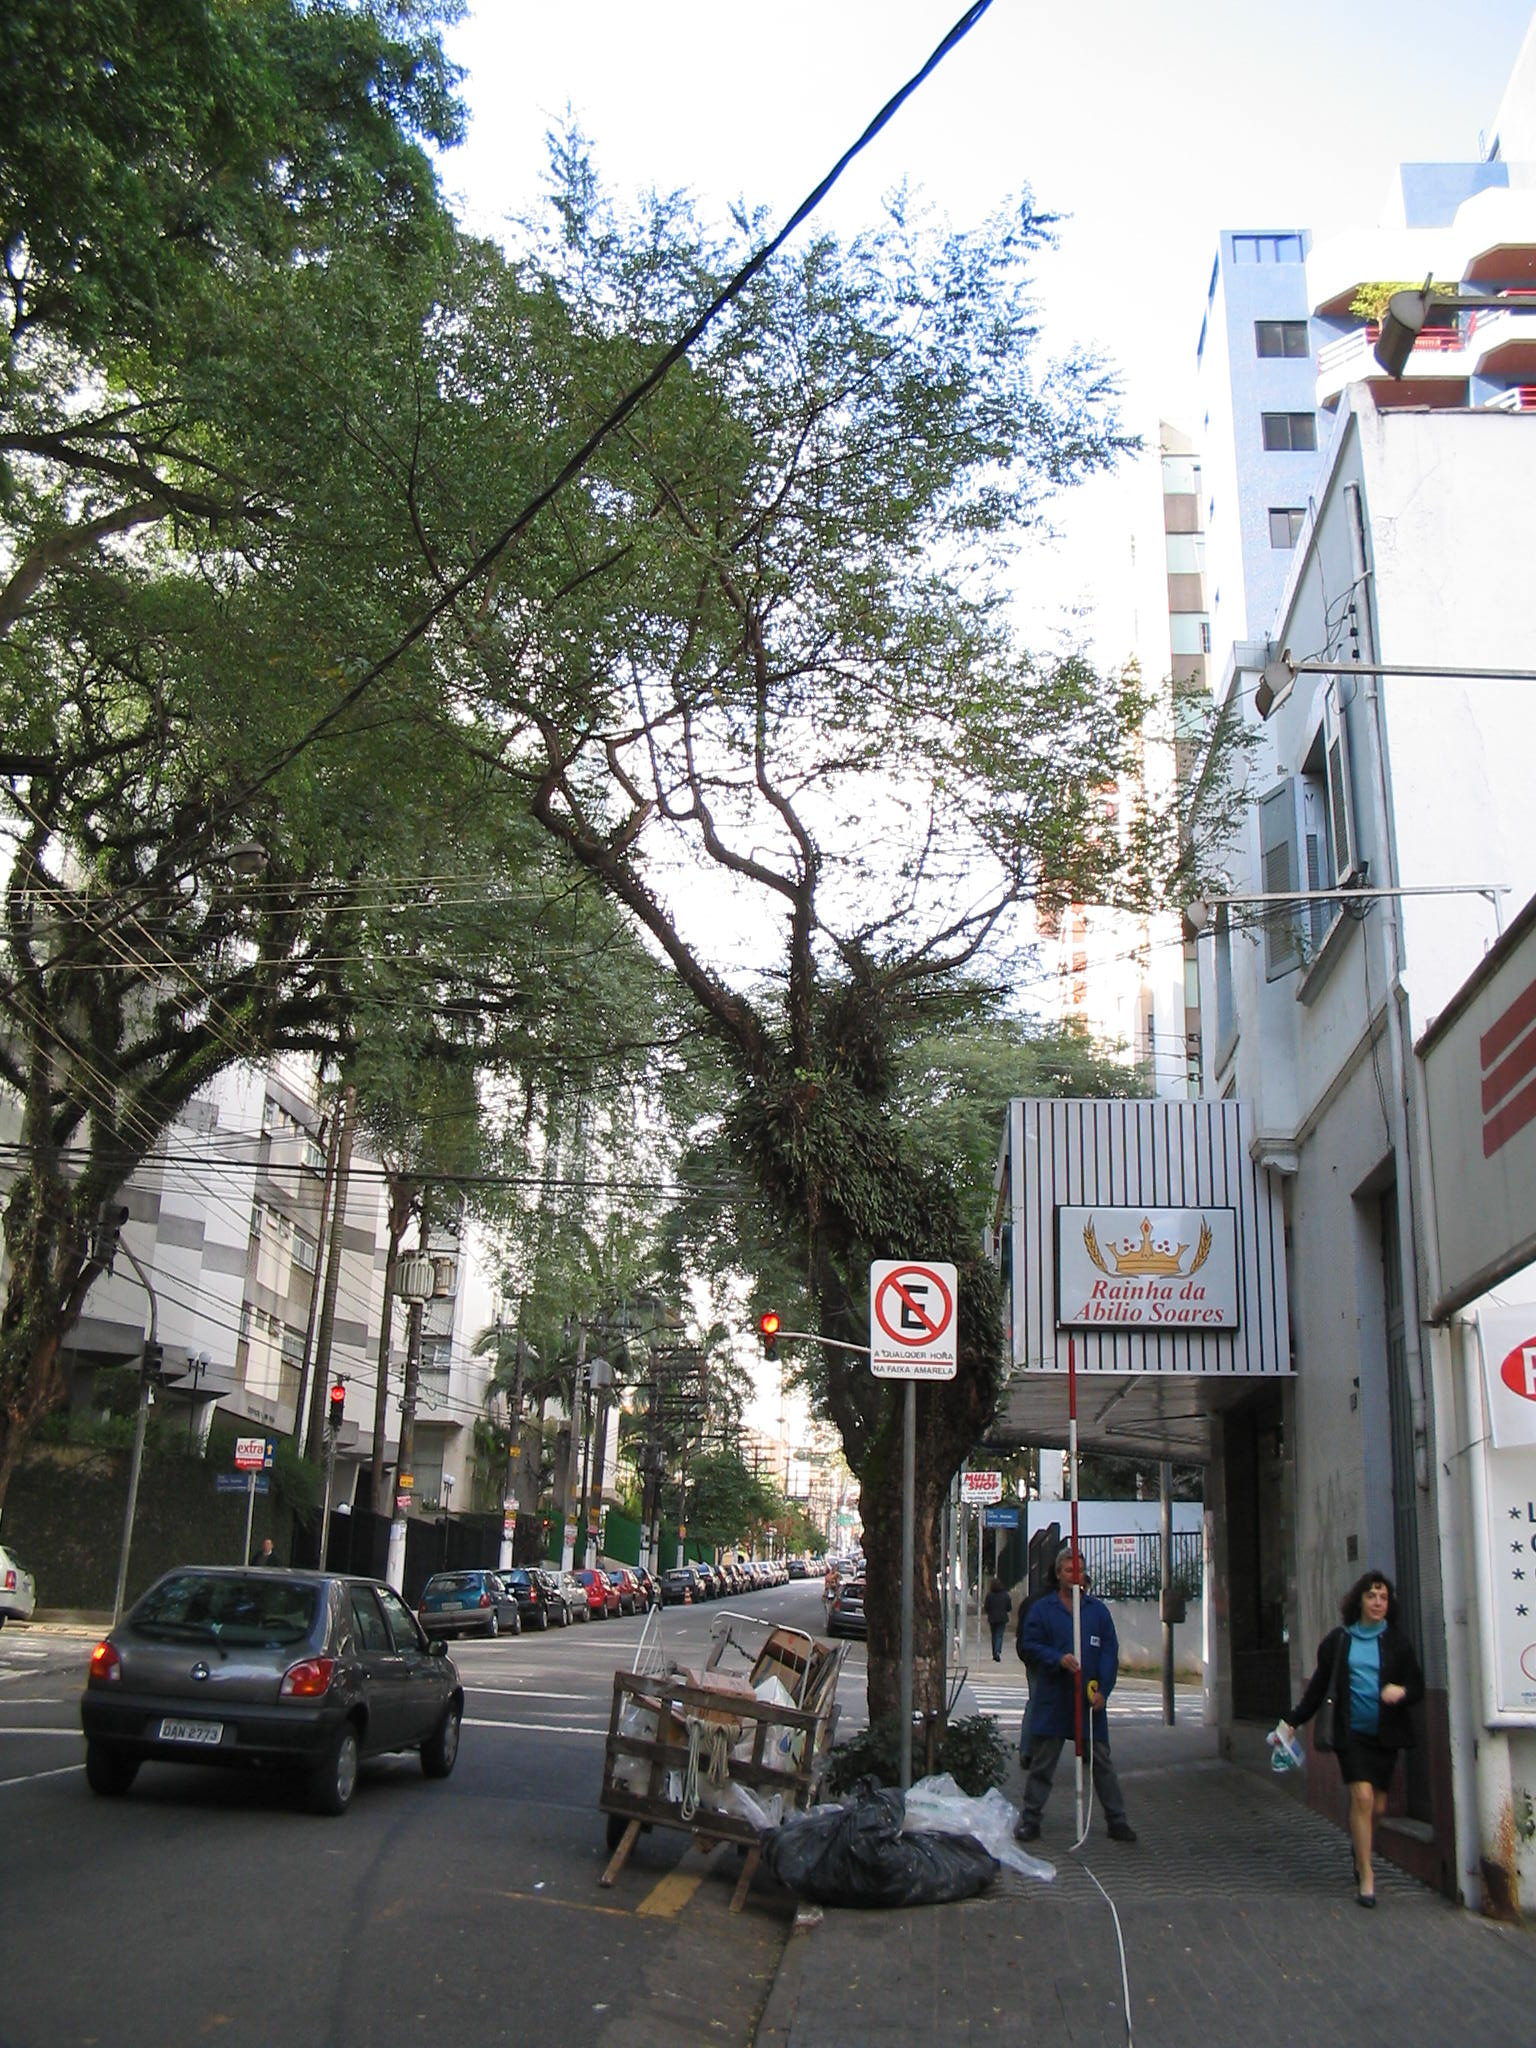crown: (124, 111, 1258, 1234)
stem: (824, 1471, 987, 1834)
stick: (1055, 1329, 1096, 1846)
tree: (119, 103, 1267, 1837)
